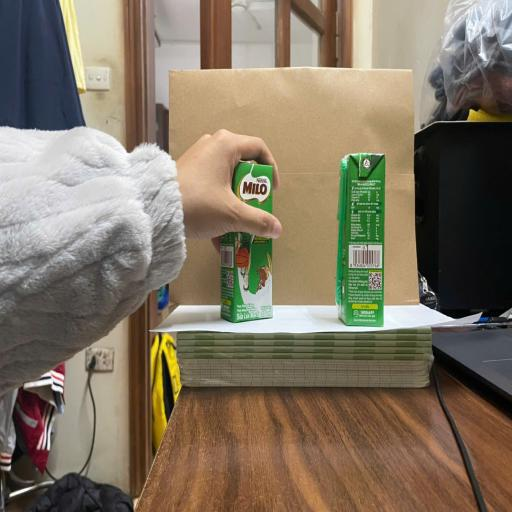milo: (222, 156, 273, 324), (338, 152, 385, 327)
